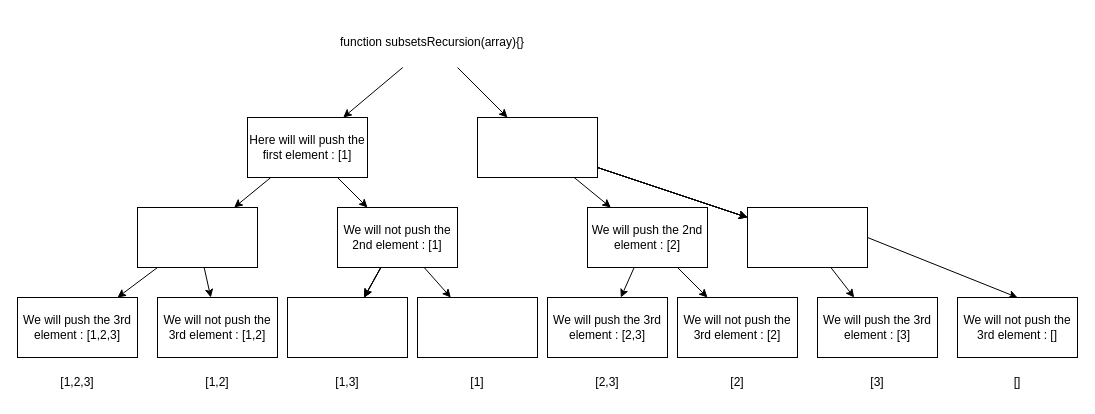
Some shapes in this 1095 by 414 pixel diagram are drawn without their labels. Each missing label, with the centre of its shape:
Here we will push nothing : []: the point at 537,147
We will not push 3rd element : [1]: the point at 477,327
We will not push the 2nd element : []: the point at 807,237
We will push the 2nd element : [1, 2]: the point at 197,237
We will push the 3rd element : [1,3]: the point at 347,327
